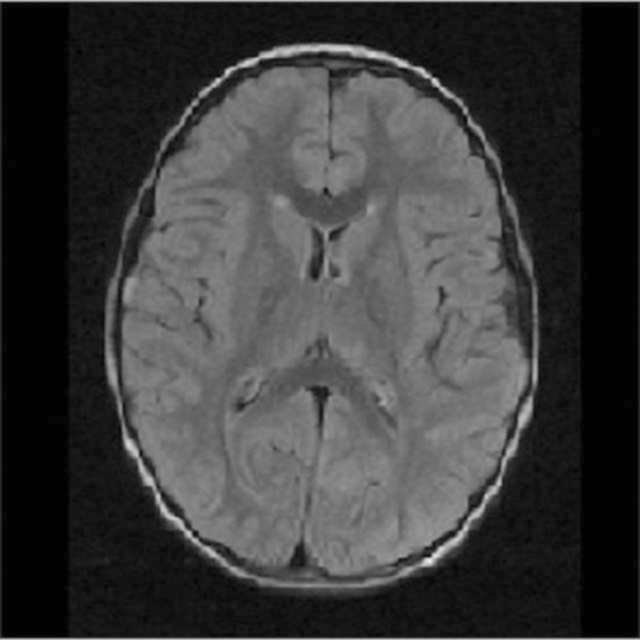glioma tumor: (185, 108, 454, 520)
